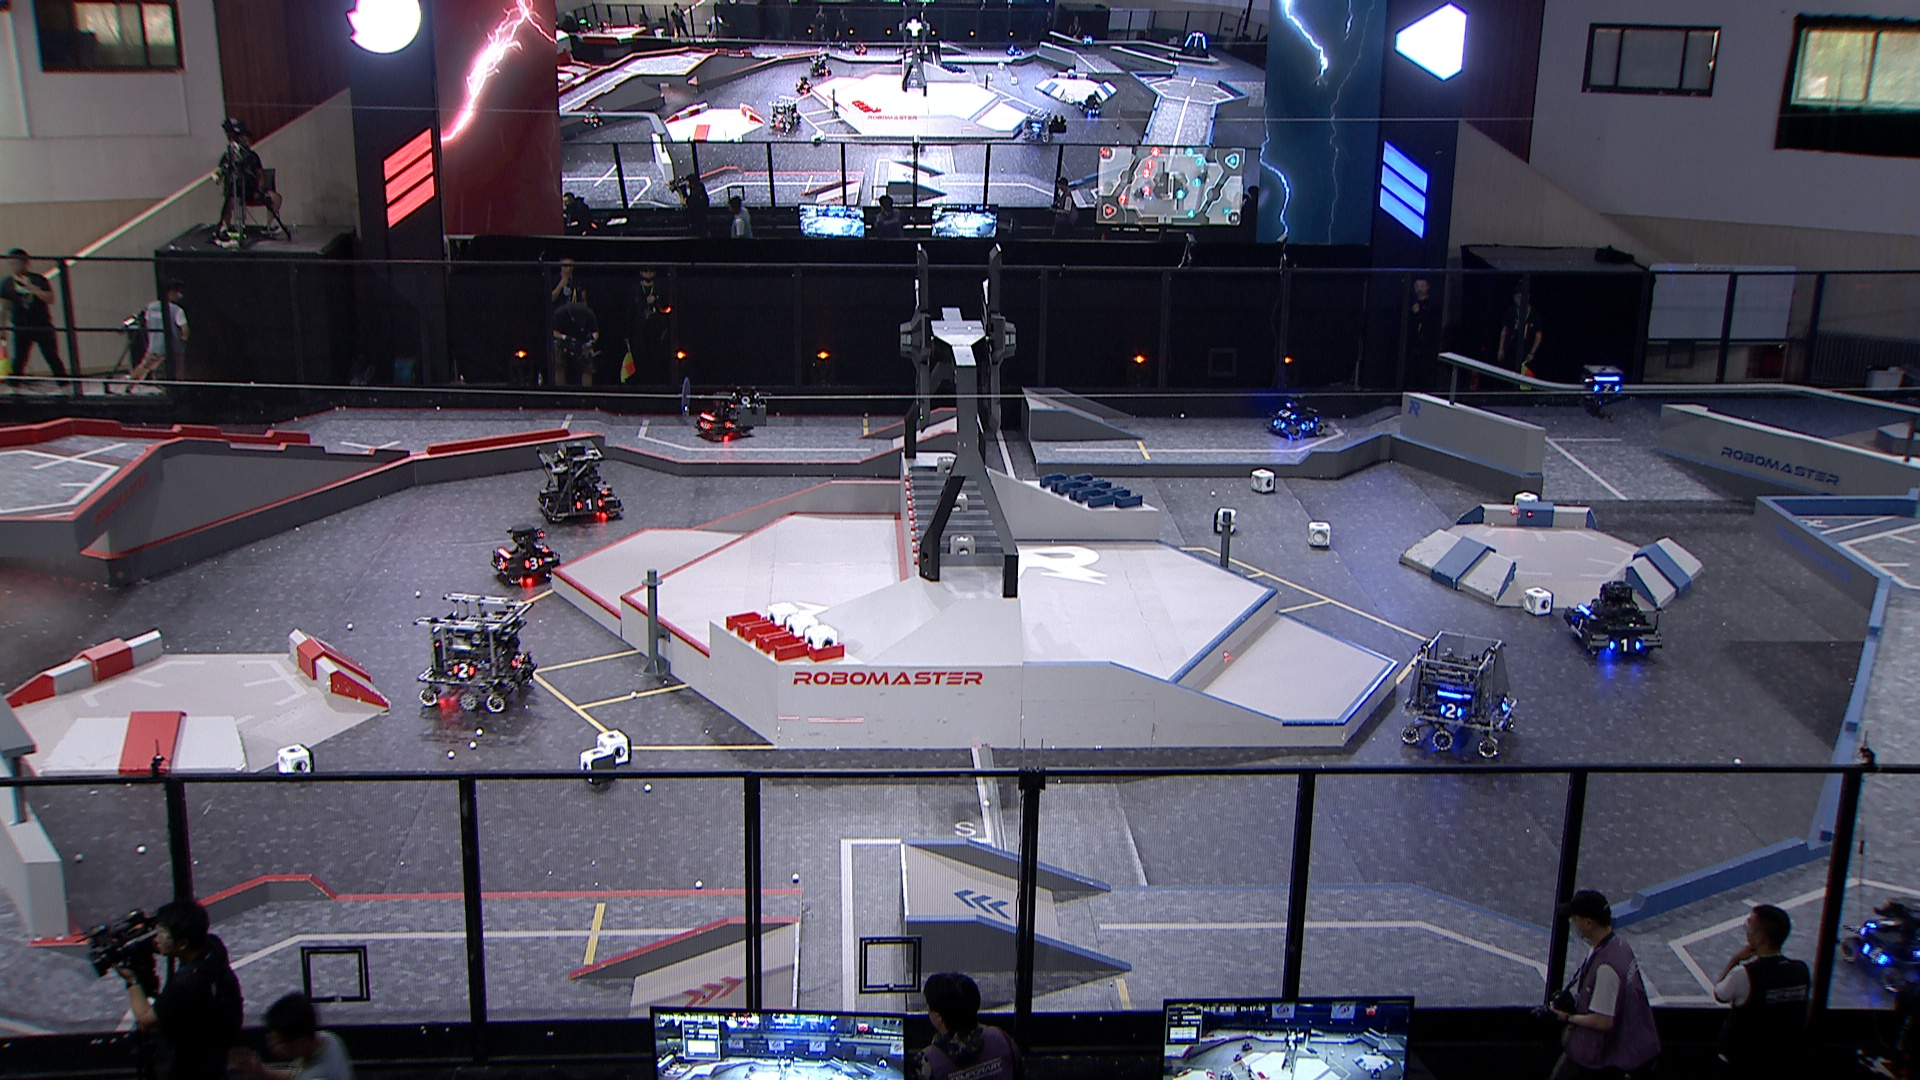armor: (1859, 943, 1890, 968), (1869, 913, 1902, 932), (575, 495, 604, 512), (1609, 637, 1643, 651), (451, 662, 476, 680), (1437, 702, 1462, 719), (1593, 381, 1622, 396), (509, 651, 527, 669), (531, 541, 553, 555), (522, 556, 543, 571), (539, 496, 556, 513), (1571, 616, 1588, 633), (493, 556, 509, 572), (1276, 409, 1298, 419), (1271, 419, 1288, 431), (1299, 419, 1316, 431), (699, 419, 713, 433), (1501, 698, 1513, 712)
car: (1400, 629, 1522, 756), (414, 591, 534, 716), (1564, 578, 1665, 665), (531, 434, 622, 527), (1836, 898, 1920, 998), (489, 524, 560, 588), (1265, 392, 1324, 440), (692, 394, 749, 439)
ignore: (766, 96, 802, 135), (1021, 107, 1058, 142), (1174, 29, 1215, 58), (1076, 88, 1106, 115), (804, 51, 835, 74), (580, 105, 607, 129)
watcher: (1577, 363, 1629, 425)
